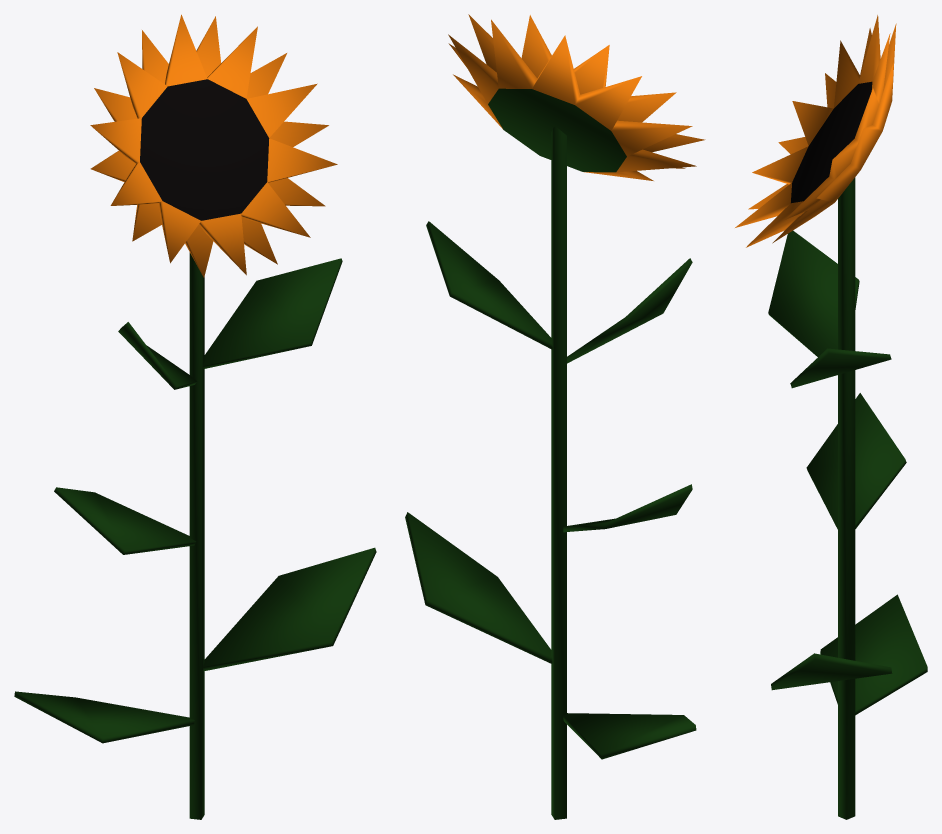
File: Sunflower.obj
3 views of the same model, side by side, from view 1: azimuth 30°, elevation 25°; view 2: azimuth 150°, elevation 25°; view 3: azimuth 270°, elevation 25° (orthographic). The views are drawn at different scales.
Visible parts, largest first — view 1: Sunflower.003; view 2: Sunflower.003; view 3: Sunflower.003.
Part boxes in pixels (bbox=[...]): Sunflower.003: bbox=[14, 14, 376, 819]; Sunflower.003: bbox=[405, 14, 705, 819]; Sunflower.003: bbox=[735, 15, 927, 819].
Bounding box in the file's own units: 4.43 × 10.34 × 2.3.
